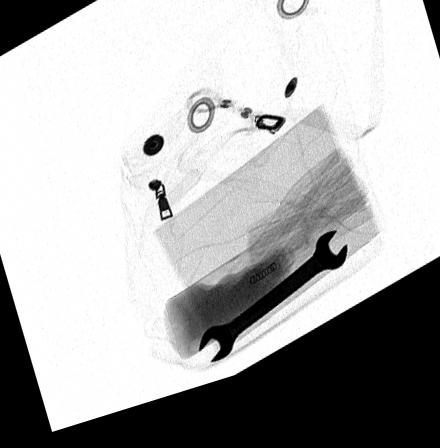Wrench: (198, 247, 350, 375)
